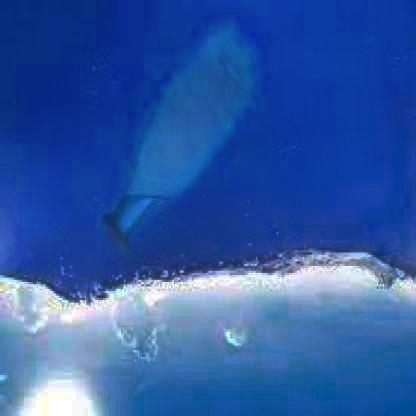gbottle: (96, 12, 264, 257)
